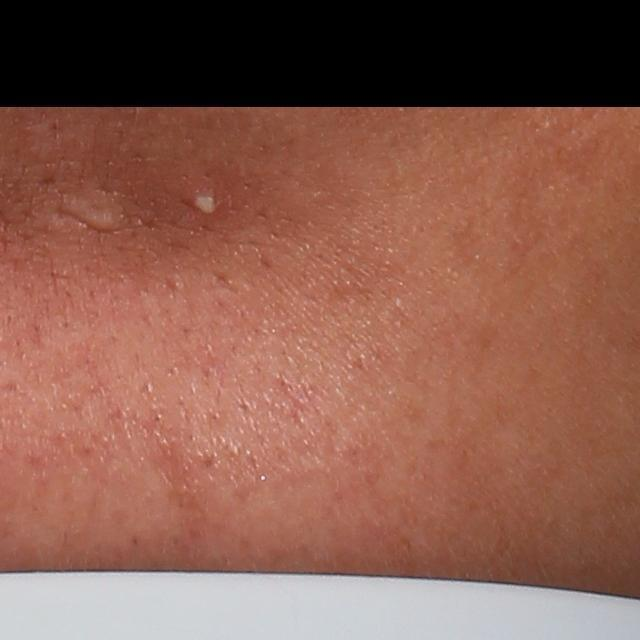hypertrophic_scar: (66, 197, 120, 232)
pustule: (176, 178, 233, 219)
